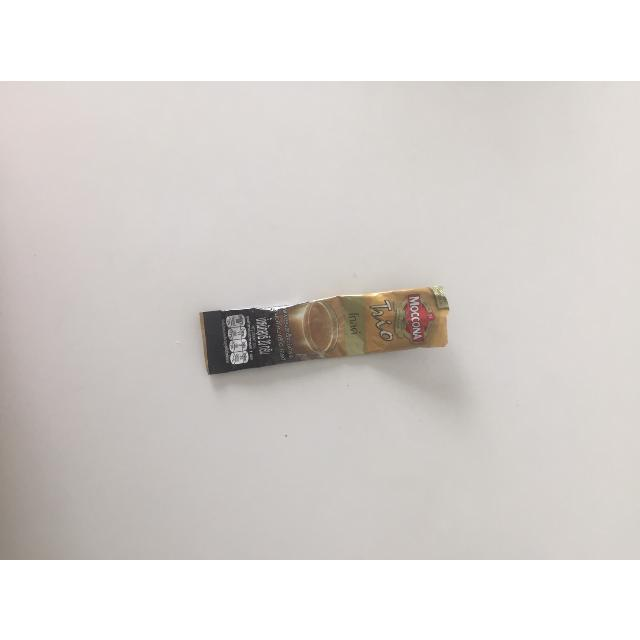Paquete de plastico: (205, 286, 451, 377)
